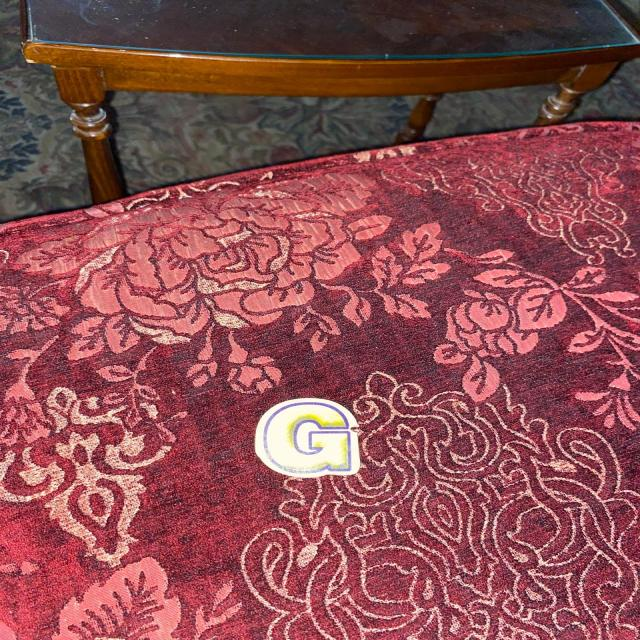G: (256, 398, 359, 478)
